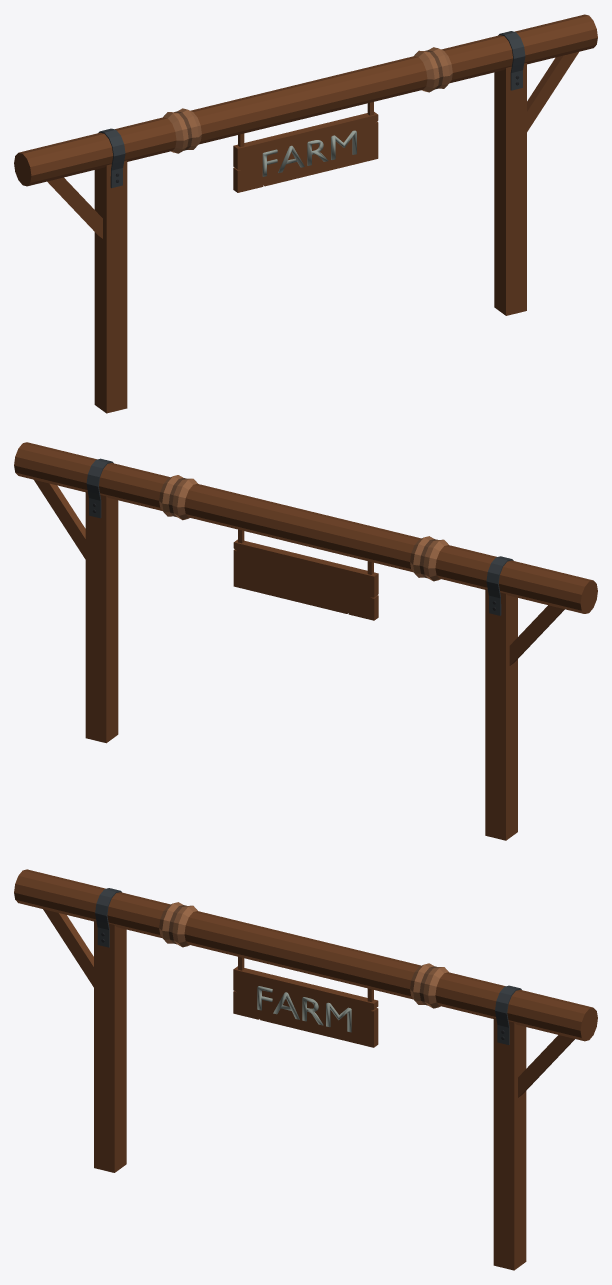
The model's file is Banner.fbx.
3 views of the same model, one above another, from view 1: azimuth 30°, elevation 25°; view 2: azimuth 150°, elevation 25°; view 3: azimuth 330°, elevation 25° (orthographic).
Visible parts, largest first — view 1: Banner; view 2: Banner; view 3: Banner.
Part boxes in pixels (x1,y1,x2,y2): Banner: (14, 14, 597, 413); Banner: (14, 442, 597, 840); Banner: (14, 869, 597, 1270).
Size of the model in its own units: 658 by 309 by 43.46.
